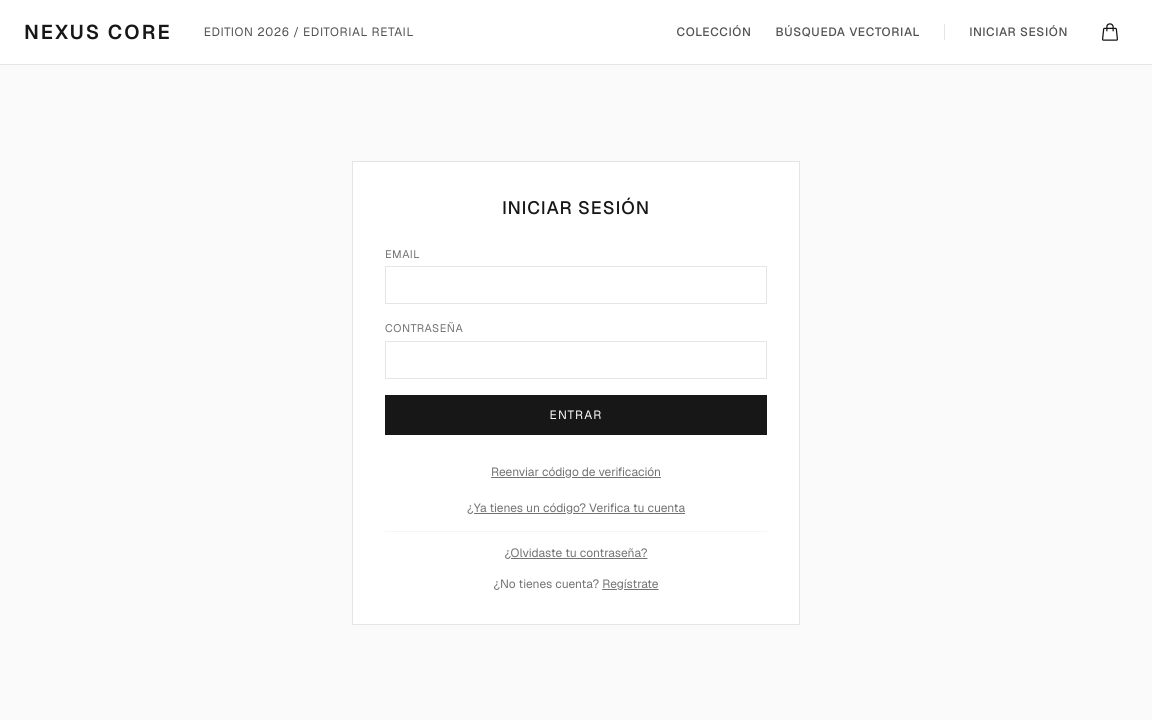
Test: Puntos de entrada del código de verificación › /login — accesos directos › F5: con email no verificado debe ofrecer «Verificar ahora» con el email precargado
The image size is (1152, 720).
Type "ana@example.com" into the field labelled "Email". click: x=576, y=285
box: x1=385 y1=266 x2=767 y2=304
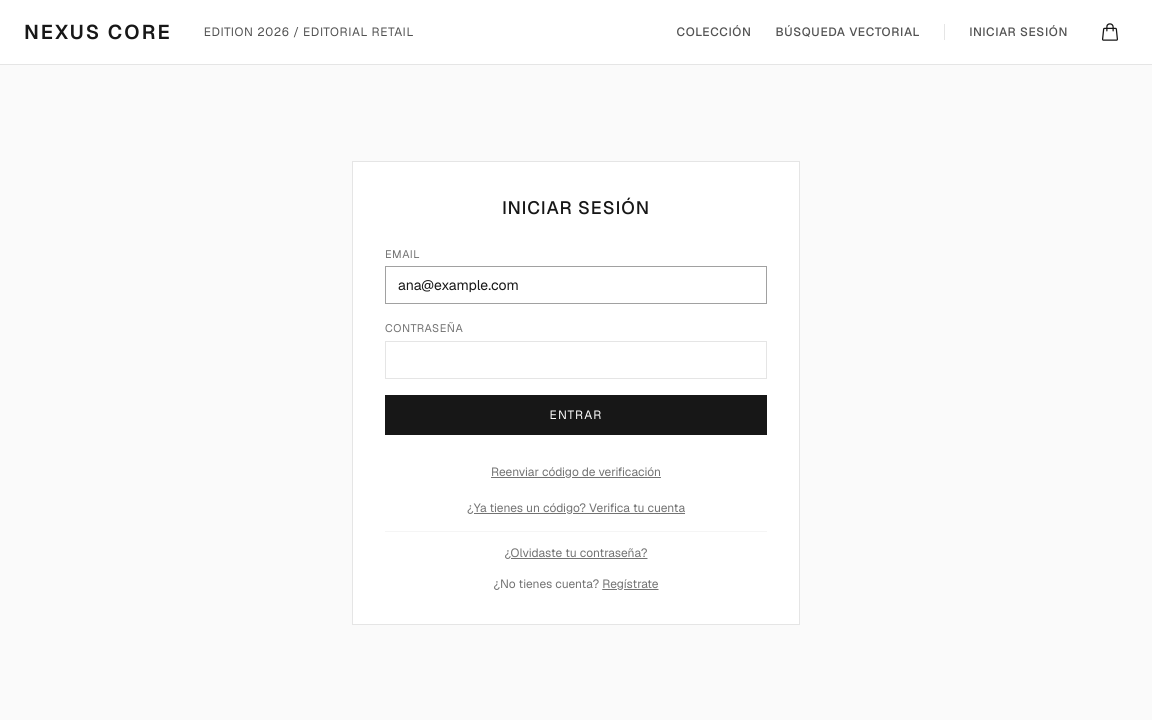
Type "password123" into the password field labelled "Contraseña". click: x=576, y=360
box: x1=385 y1=340 x2=767 y2=378
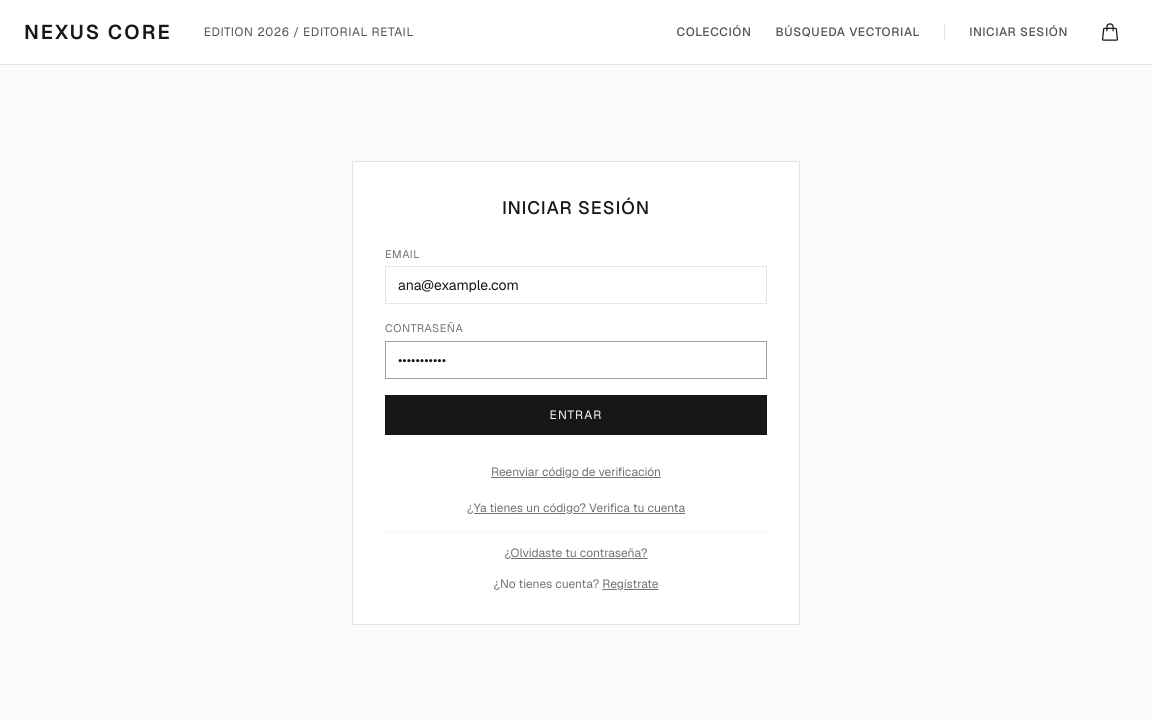
Click the button "Entrar". click: x=576, y=414
box: x1=385 y1=394 x2=767 y2=434
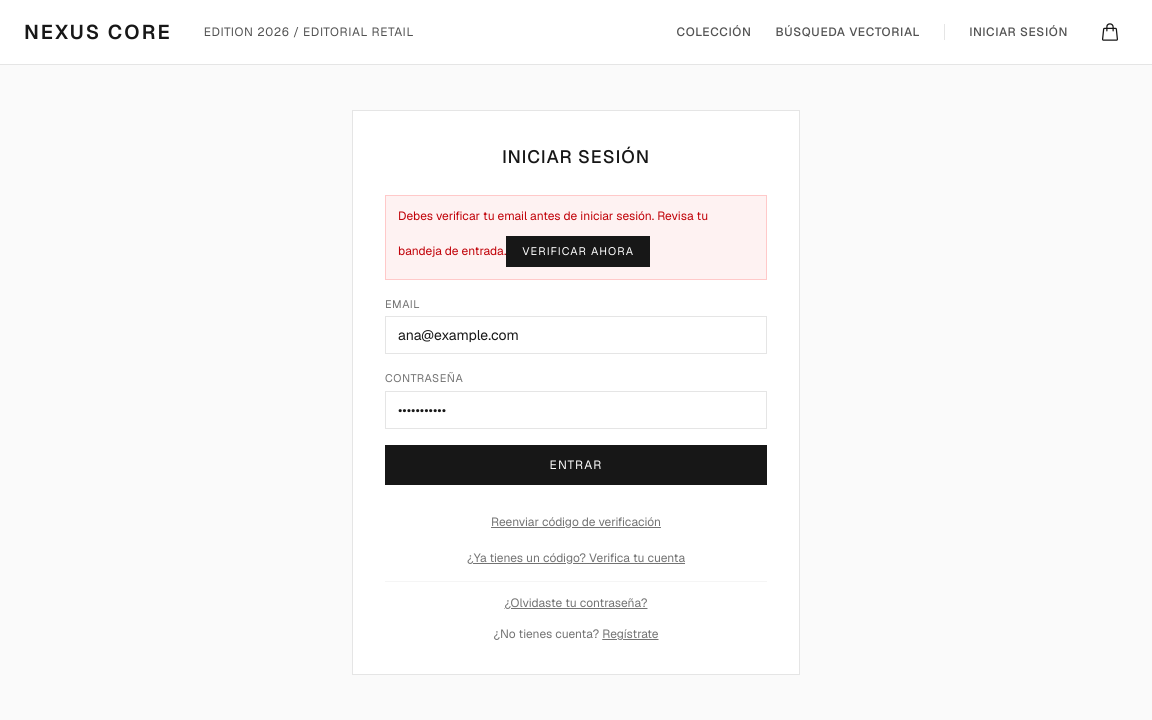
Check: the text "Debes verificar tu email" is shown, box x1=398 y1=208 x2=708 y2=259
